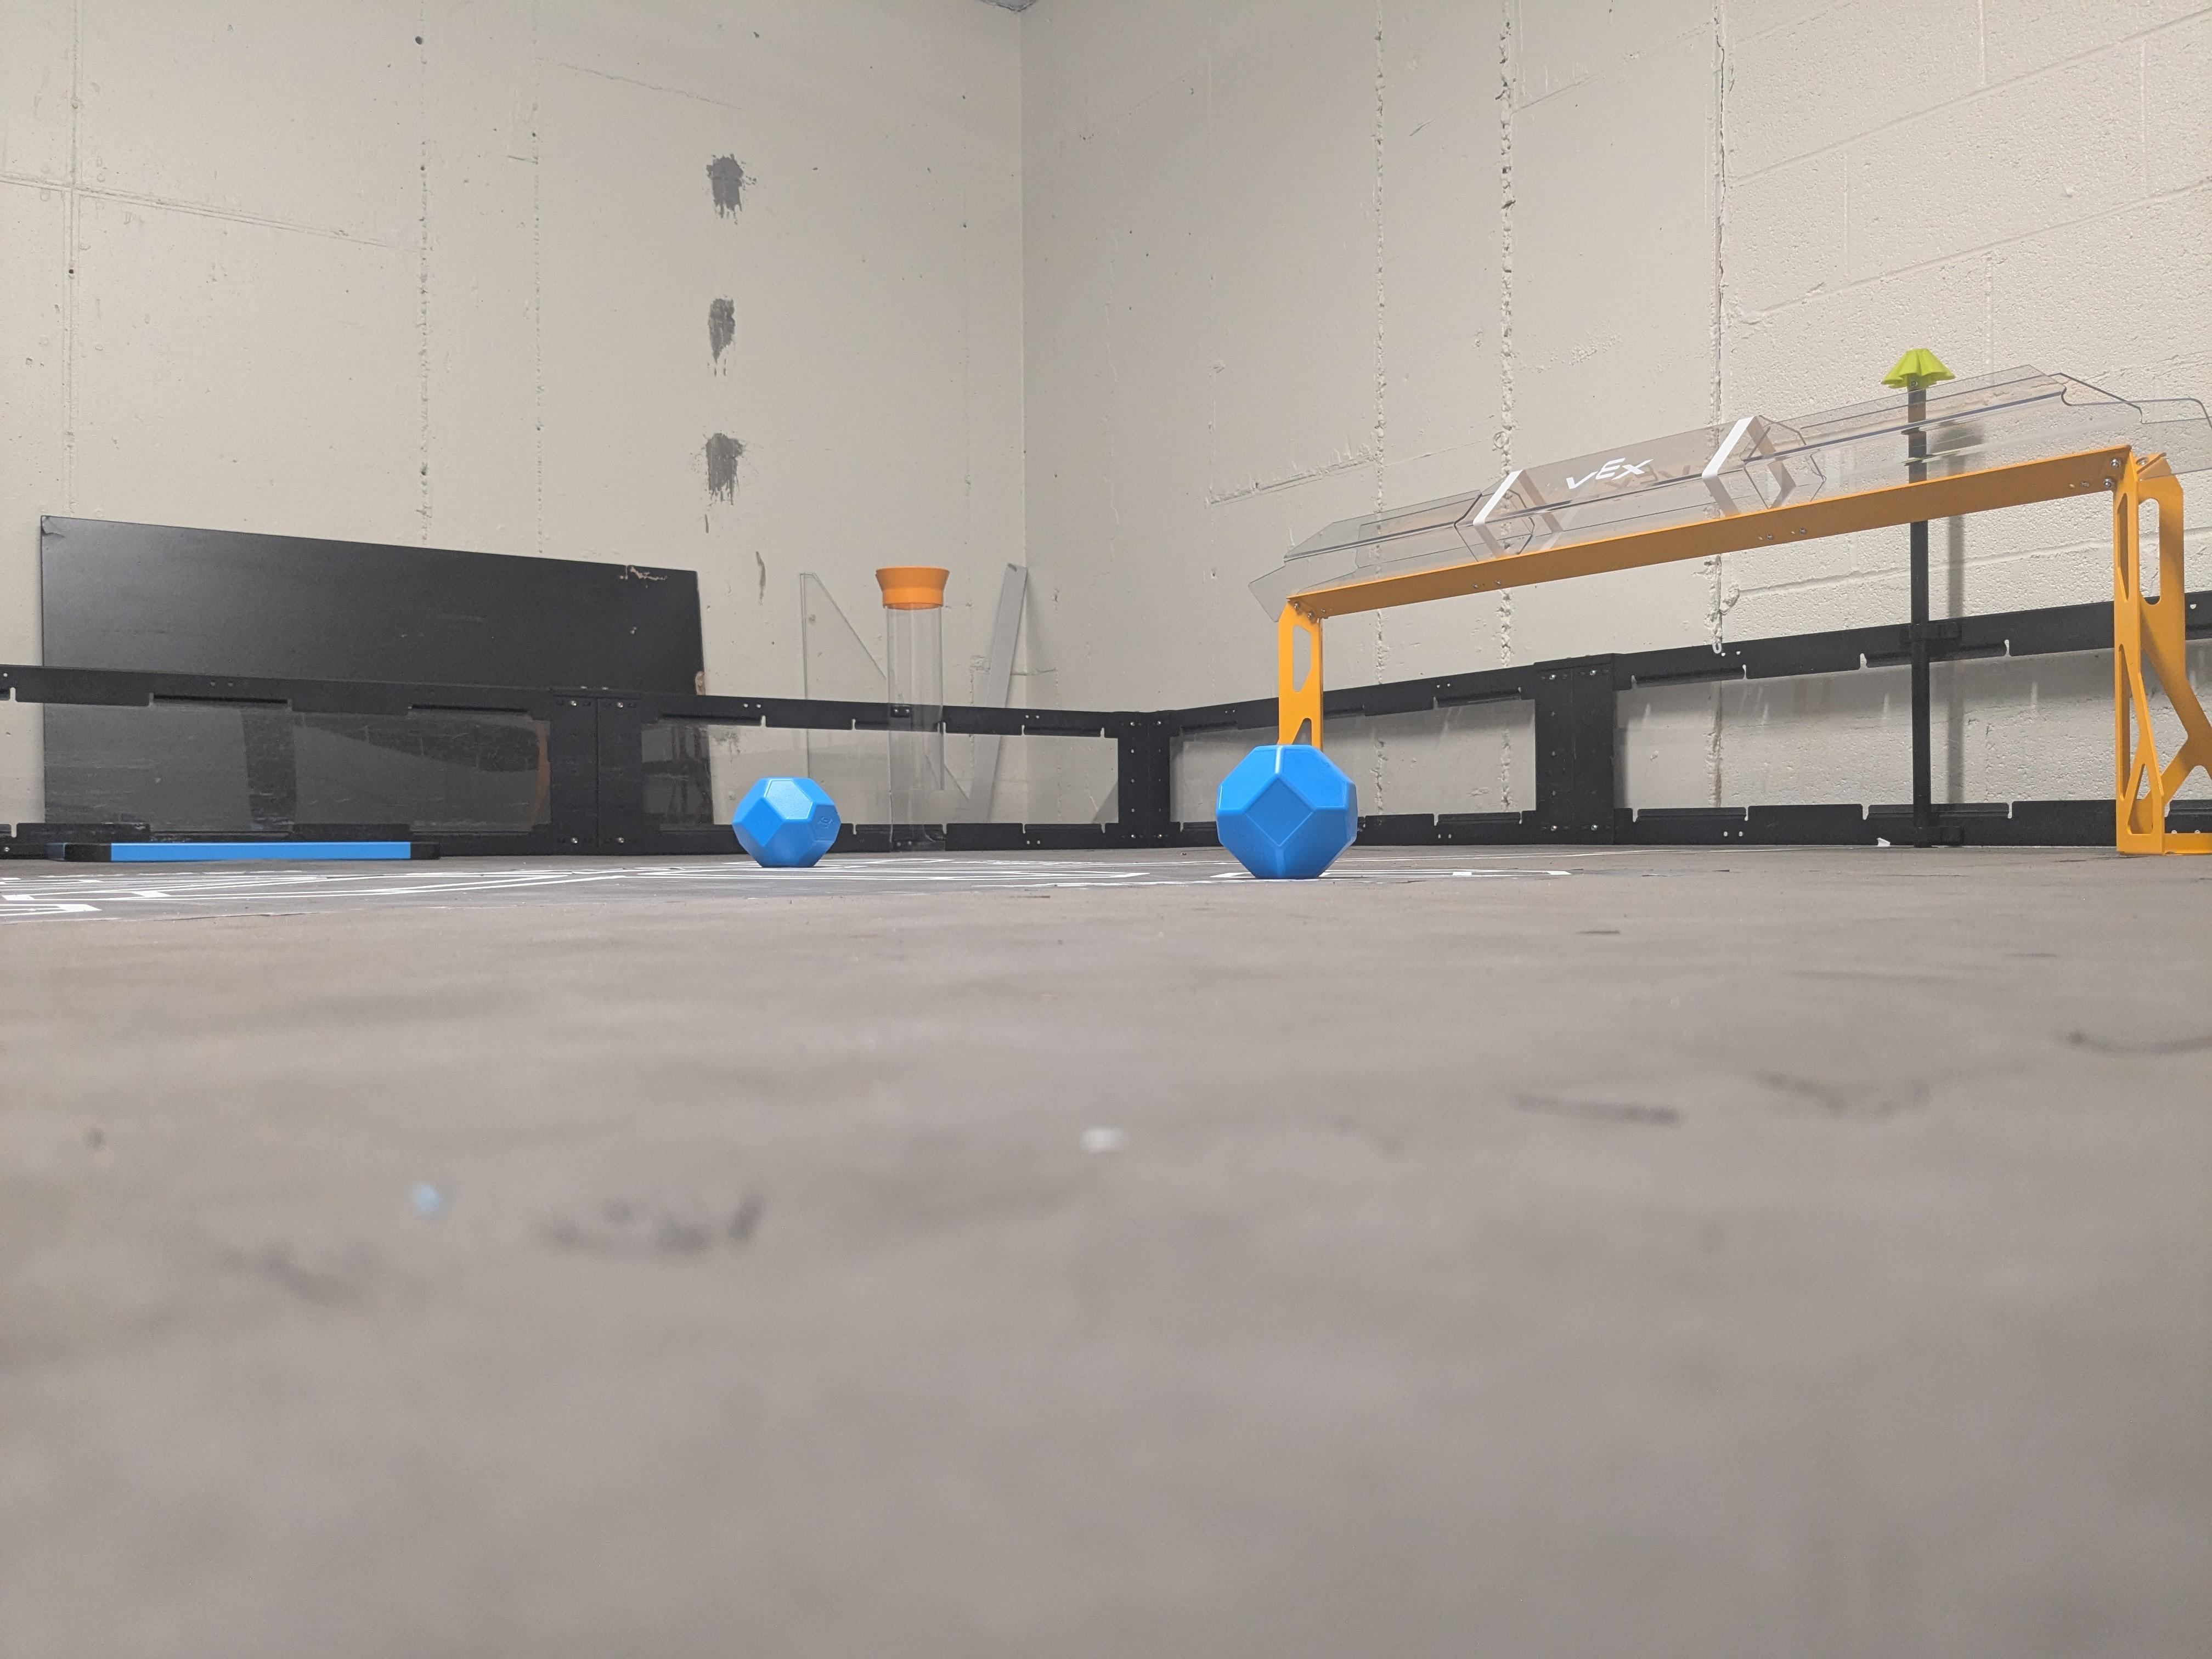Vex-Pieces-BLUE: (1216, 746, 1359, 878), (732, 777, 840, 868)
